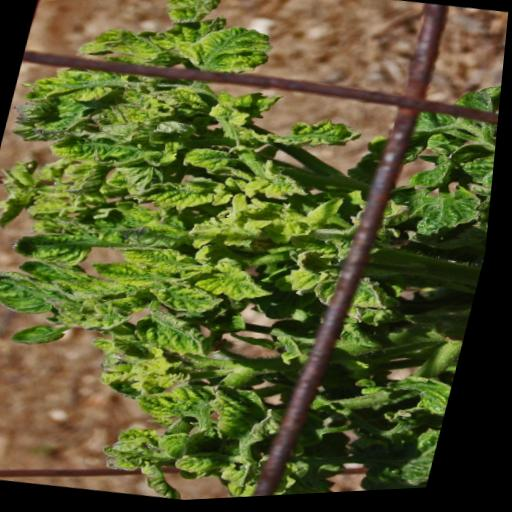Yellow Leaf Curl Virus: (127, 166, 258, 223), (204, 383, 295, 463), (182, 17, 282, 86), (135, 301, 235, 368), (48, 121, 163, 175), (25, 61, 135, 117), (71, 20, 176, 71), (195, 256, 291, 311), (11, 222, 111, 274), (272, 111, 371, 162), (190, 209, 285, 260), (149, 271, 240, 323), (0, 261, 77, 322), (120, 237, 220, 283), (205, 86, 282, 138), (282, 247, 344, 301), (90, 255, 178, 293), (130, 382, 196, 428), (183, 137, 248, 177), (154, 0, 227, 30), (307, 190, 355, 235), (160, 426, 208, 466)
